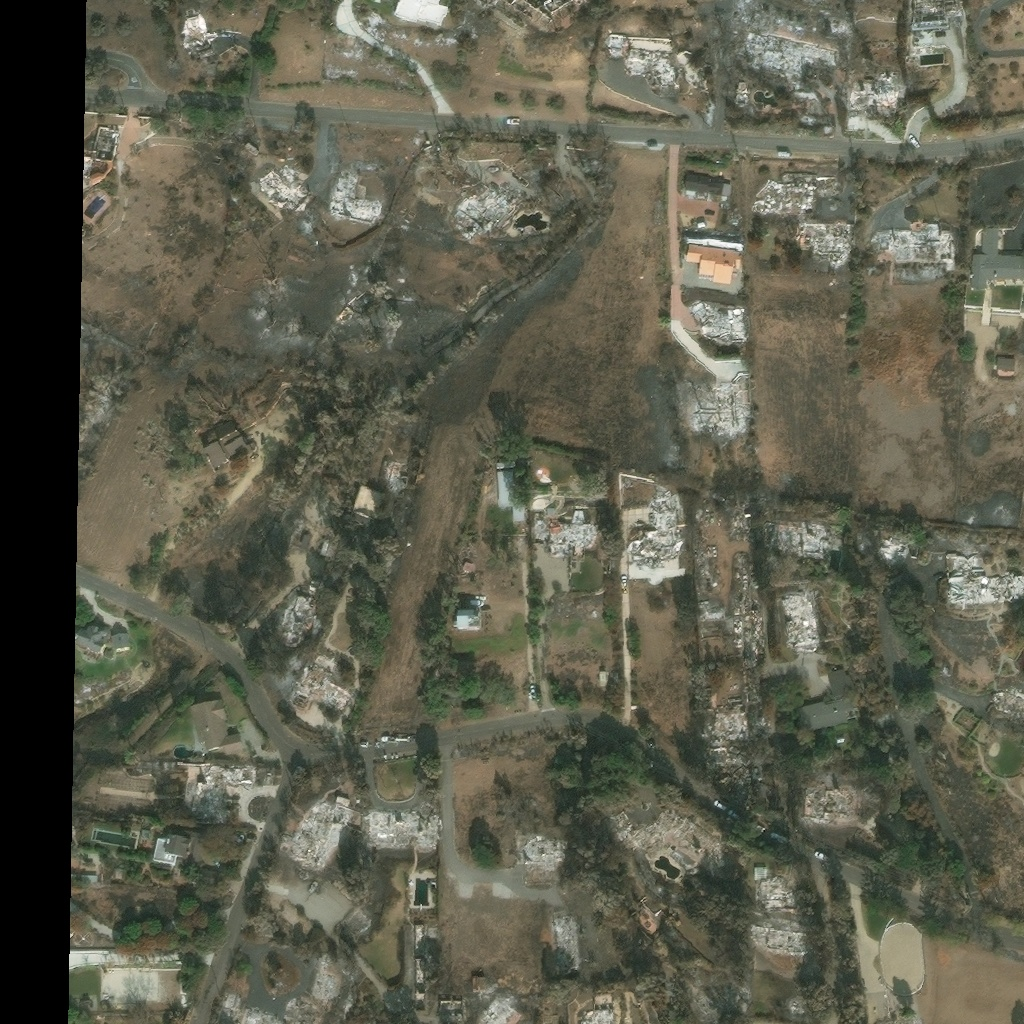0 no-damage: (188, 697, 243, 756), (684, 242, 740, 284), (351, 483, 381, 518), (76, 622, 108, 652), (200, 439, 229, 471), (216, 428, 246, 457), (495, 469, 513, 508), (151, 837, 176, 864), (455, 608, 477, 628), (111, 631, 130, 651), (495, 455, 515, 468), (510, 506, 525, 521), (461, 560, 474, 572)
2 major-damage: (90, 123, 118, 162), (411, 957, 428, 991), (410, 924, 427, 958), (438, 997, 463, 1019), (411, 991, 428, 1018), (471, 975, 485, 990)
3 destroyed: (189, 763, 253, 833), (288, 796, 349, 869), (751, 518, 831, 571), (286, 660, 353, 715), (686, 290, 744, 341), (629, 487, 672, 554), (778, 589, 821, 649), (544, 509, 598, 555), (277, 590, 317, 647), (261, 166, 311, 210), (689, 388, 735, 431), (324, 186, 376, 224), (799, 786, 856, 820), (549, 912, 579, 974), (476, 180, 519, 223), (523, 837, 564, 881), (238, 372, 283, 407), (365, 812, 410, 845), (765, 182, 814, 211), (481, 995, 517, 1023), (385, 457, 410, 491), (286, 939, 317, 966), (218, 991, 243, 1021), (310, 969, 335, 997), (715, 709, 744, 727), (640, 907, 658, 935), (880, 538, 905, 558), (583, 1007, 613, 1023), (241, 1005, 261, 1023), (694, 996, 710, 1013), (533, 516, 544, 540), (293, 972, 306, 990), (297, 1008, 312, 1023), (255, 1014, 279, 1023), (790, 996, 806, 1008), (309, 575, 320, 591), (545, 507, 554, 515)
4 un-classified: (140, 886, 180, 924)
